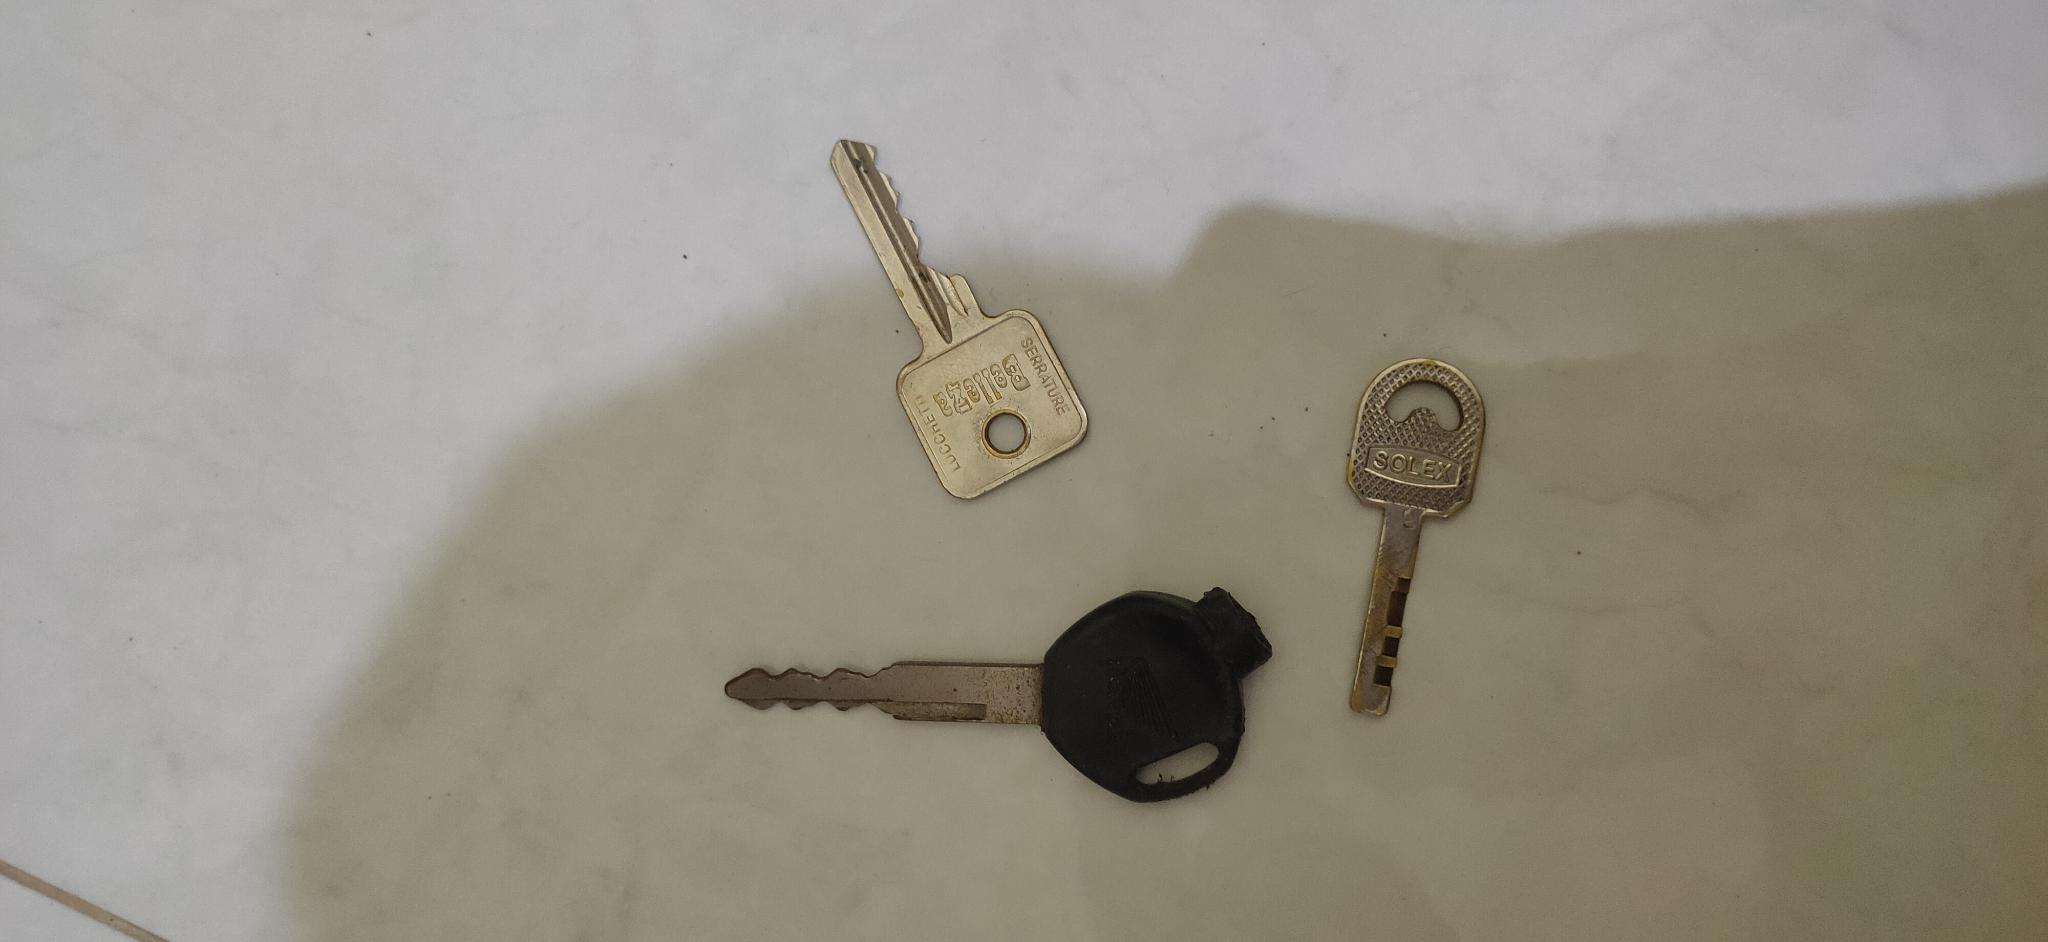keys: (718, 572, 1290, 817), (815, 112, 1106, 512), (1322, 344, 1496, 729)
